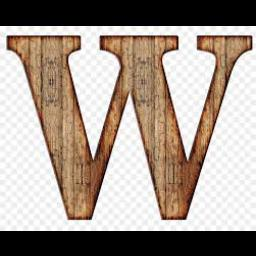w: (0, 25, 256, 227)
